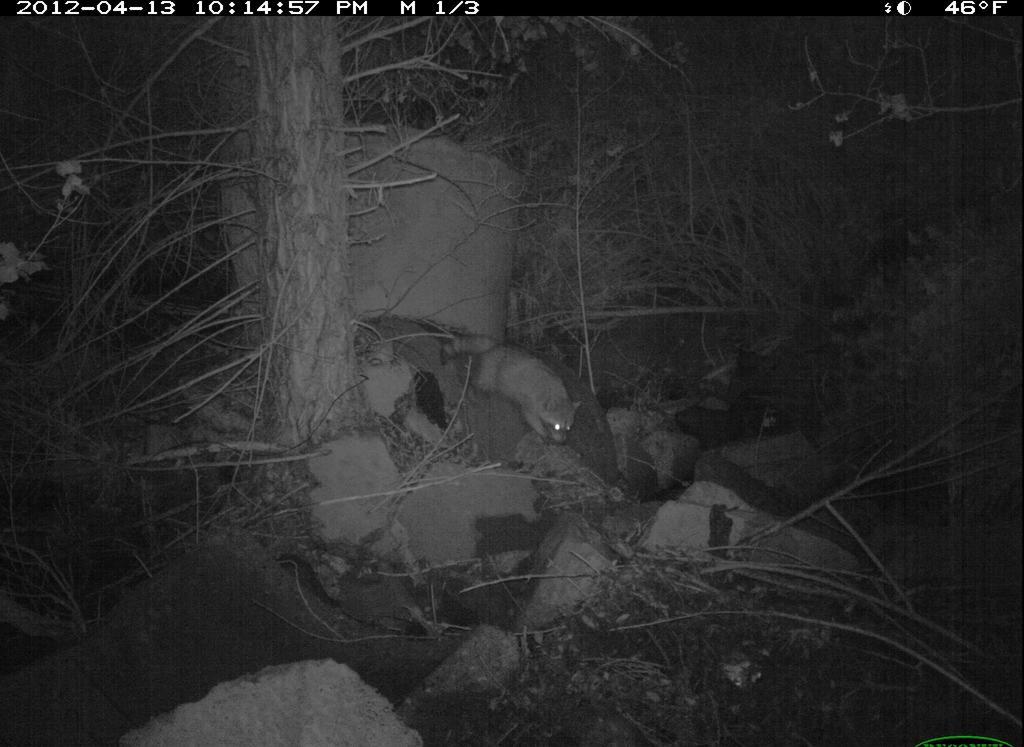raccoon: (436, 329, 584, 450)
